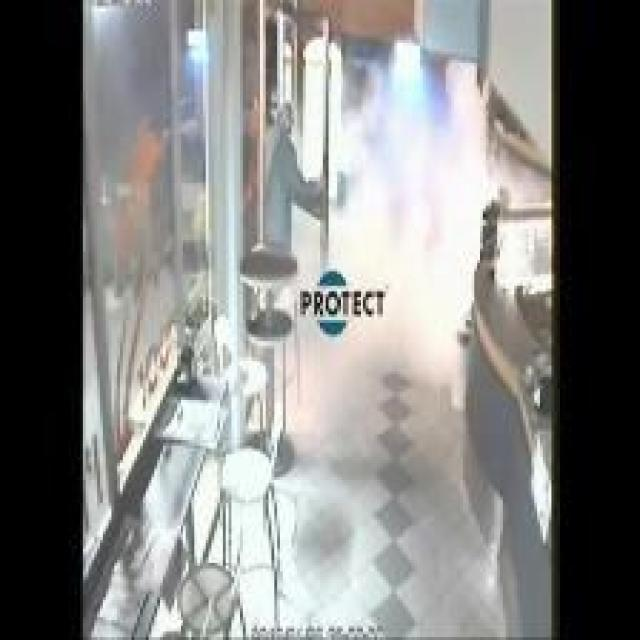fire: (323, 57, 486, 397)
